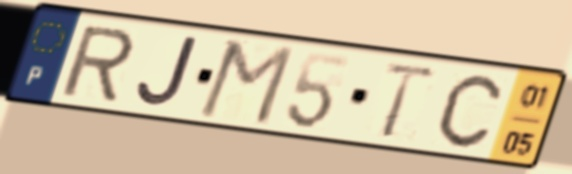5: (282, 48, 355, 131)
C: (434, 71, 505, 150)
J: (132, 35, 202, 111)
M: (193, 37, 299, 129)
R: (56, 23, 138, 103)
T: (378, 59, 443, 140)
